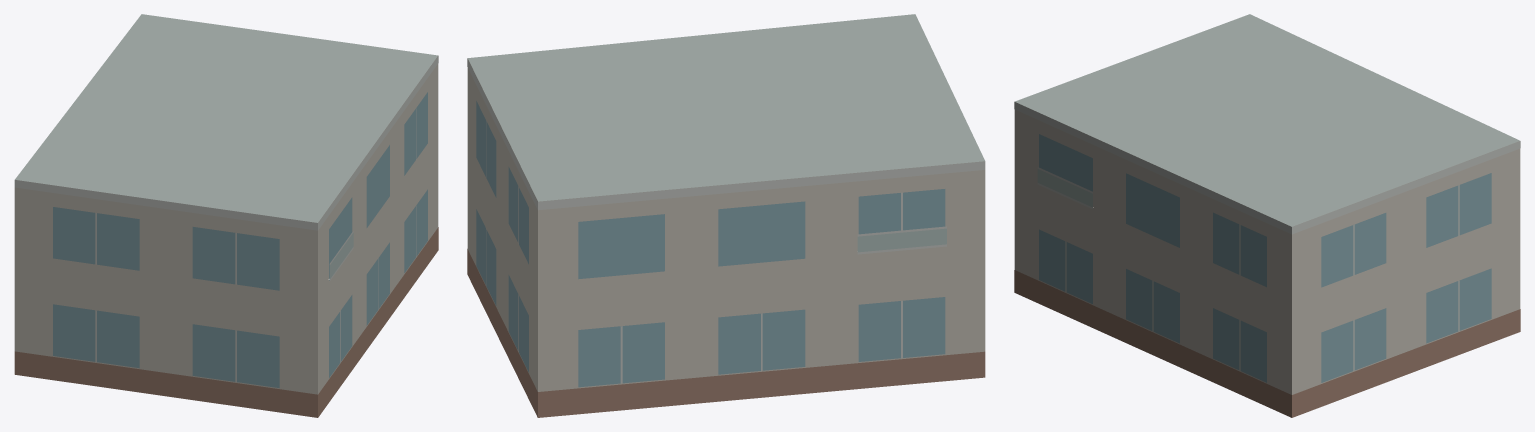
File: survey-upis-32916096.glb
The picture shows the model from 3 angles, left to right: view 1: azimuth 30°, elevation 25°; view 2: azimuth 150°, elevation 25°; view 3: azimuth 270°, elevation 25°; orthographic projection. The views are drawn at different scales.
Parts seen in each view (by area): view 1: survey-upis-32916096.tmp; view 2: survey-upis-32916096.tmp; view 3: survey-upis-32916096.tmp.
Part boxes in pixels (x1,y1,x2,y2): survey-upis-32916096.tmp: (14,14,438,417); survey-upis-32916096.tmp: (467,14,985,417); survey-upis-32916096.tmp: (1014,14,1520,417).
Size of the model in its own units: 14.59 by 6.1 by 14.66.
